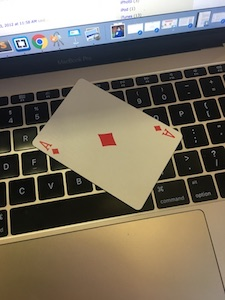AceOfDiamonds: (29, 77, 187, 211)
